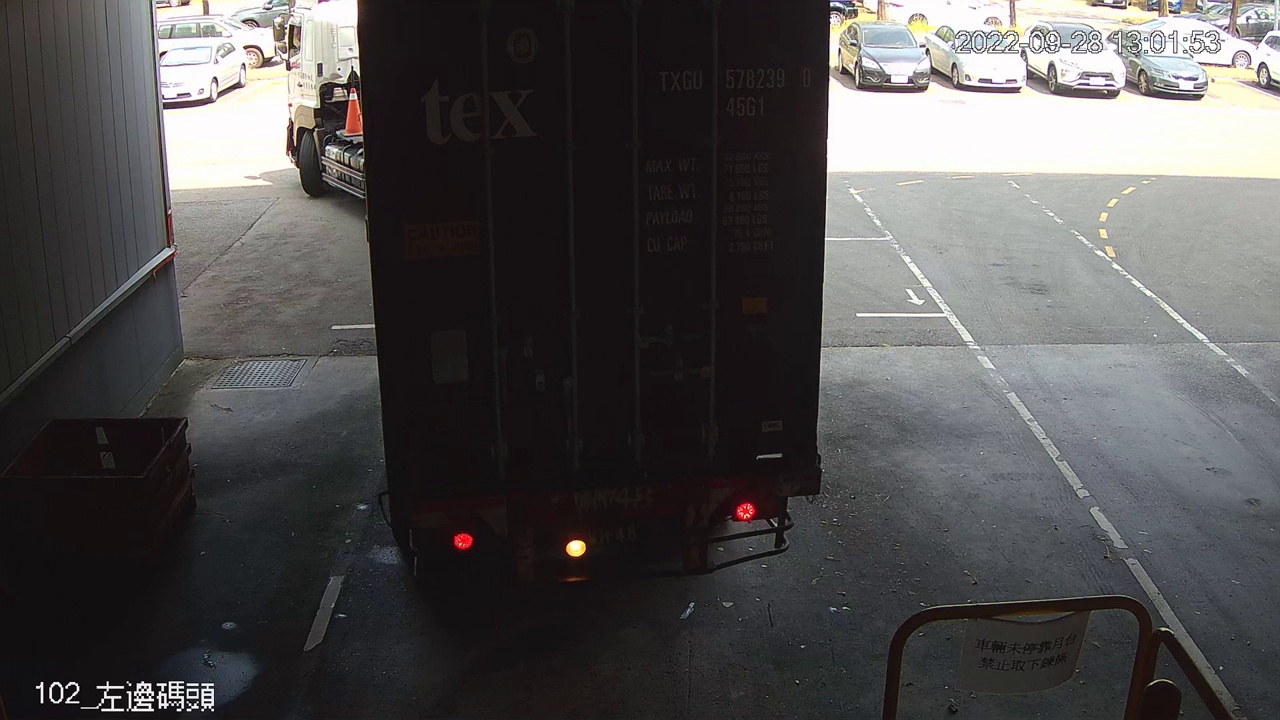container: (651, 60, 820, 122)
